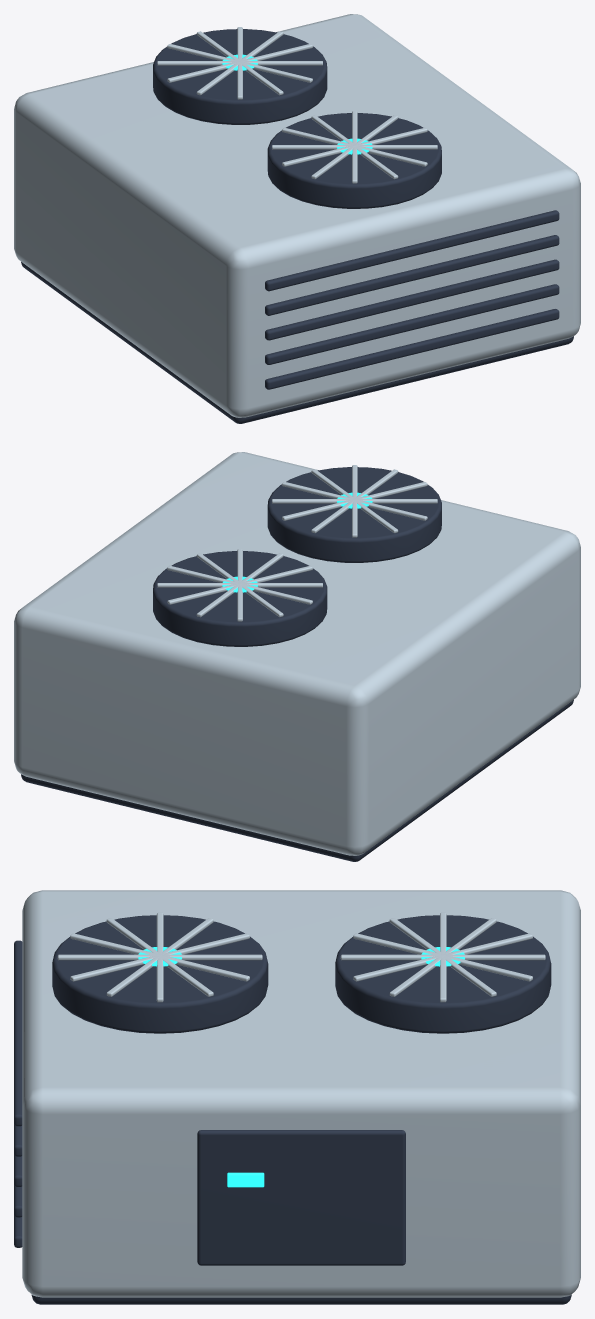
File: free-roof-vent.glb
3 renders of one model, top to bottom at view 1: azimuth 30°, elevation 25°; view 2: azimuth 150°, elevation 25°; view 3: azimuth 270°, elevation 25°, orthographic. The views are drawn at different scales.
Visible parts, largest first — view 1: roof-vent; view 2: roof-vent; view 3: roof-vent.
Boxes of the visible parts, left/top/right/bottom form: roof-vent: left=14, top=14, right=580, bottom=423; roof-vent: left=14, top=452, right=580, bottom=861; roof-vent: left=14, top=890, right=580, bottom=1304.
Size of the model in its own units: 1.38 by 0.741 by 1.52.
